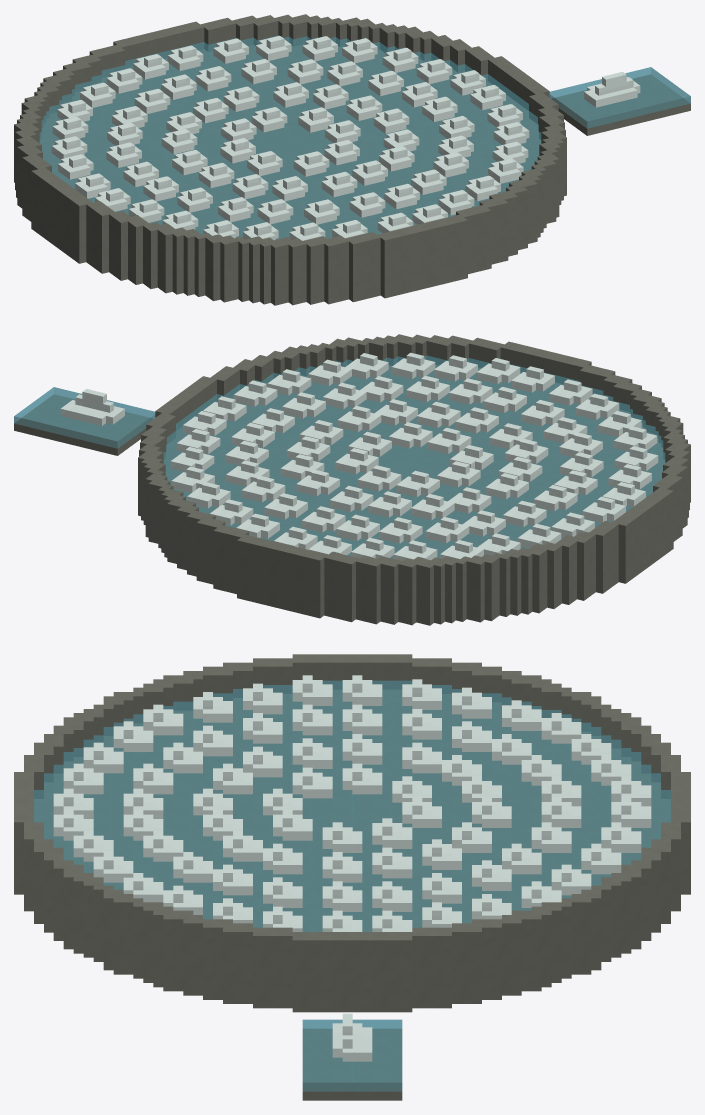
The picture shows the model from 3 angles, top to bottom: view 1: azimuth 30°, elevation 25°; view 2: azimuth 150°, elevation 25°; view 3: azimuth 270°, elevation 25°; orthographic projection. The views are drawn at different scales.
Visible parts, largest first — view 1: 连续水系原生合成（辅助；保留母版） (×2); view 2: 连续水系原生合成（辅助；保留母版） (×2); view 3: 连续水系原生合成（辅助；保留母版） (×2).
Part boxes in pixels (box(x1,y1,x2,y2)): 连续水系原生合成（辅助；保留母版） (×2): box(14, 14, 690, 305); 连续水系原生合成（辅助；保留母版） (×2): box(14, 334, 690, 625); 连续水系原生合成（辅助；保留母版） (×2): box(14, 654, 690, 1100).
Bounding box in the file's own units: 17.8 × 1.6 × 13.6.
Materials: 3 (1 with a texture image).
